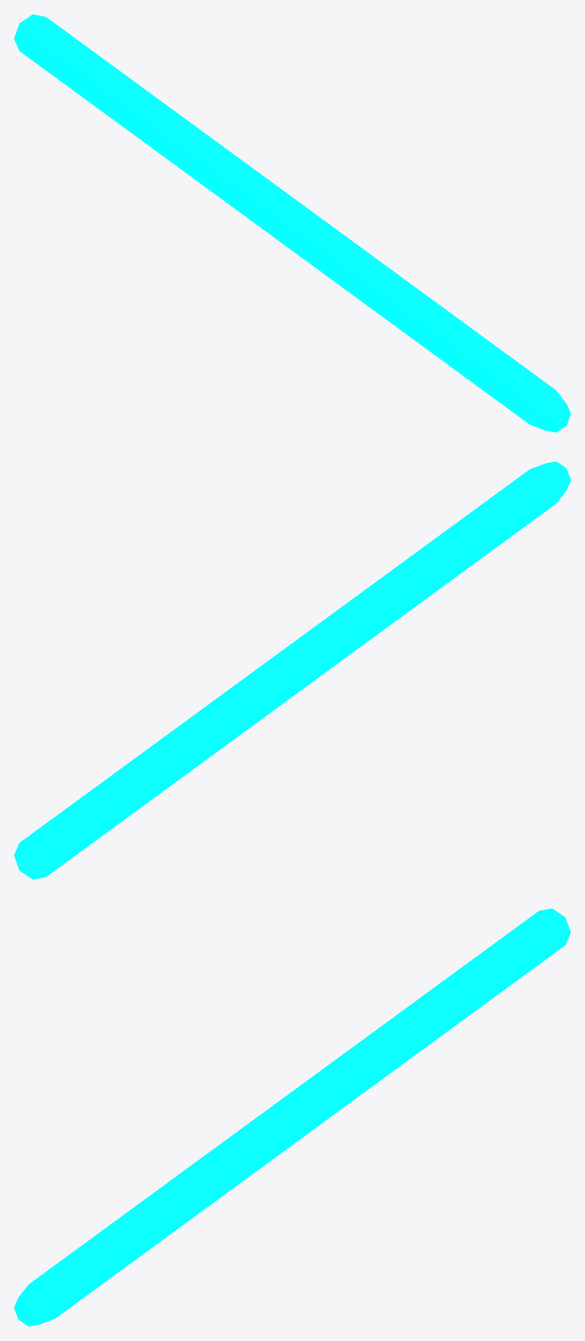
The model's file is LaserTowerBeam.fbx.
3 renders of one model, top to bottom at view 1: azimuth 30°, elevation 25°; view 2: azimuth 150°, elevation 25°; view 3: azimuth 330°, elevation 25°, orthographic.
Parts seen in each view (by area): view 1: LASERTOWER_Laser; view 2: LASERTOWER_Laser; view 3: LASERTOWER_Laser.
Boxes of the visible parts, box(x1,y1,x2,y2) form: LASERTOWER_Laser: box(14, 14, 570, 432); LASERTOWER_Laser: box(14, 461, 570, 879); LASERTOWER_Laser: box(14, 908, 570, 1326).
Bounding box in the file's own units: 0.6714 × 0.6714 × 16.32.
Materials: 1 (1 with a texture image).
